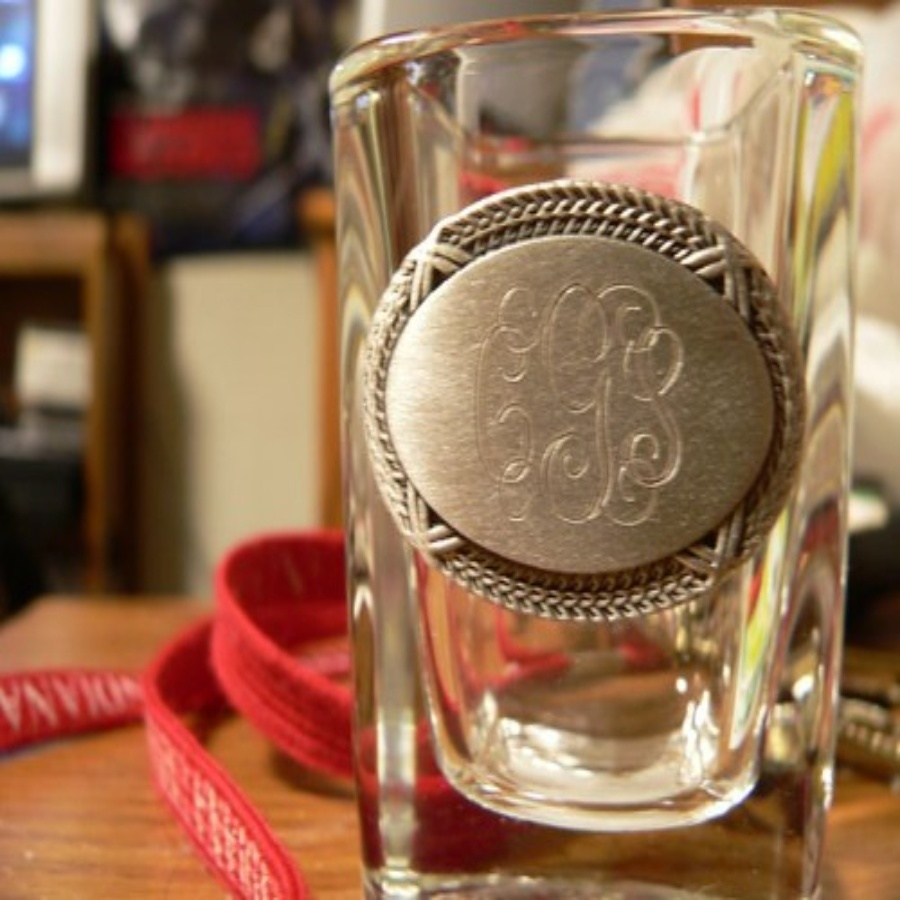whiskey: (358, 18, 856, 900)
